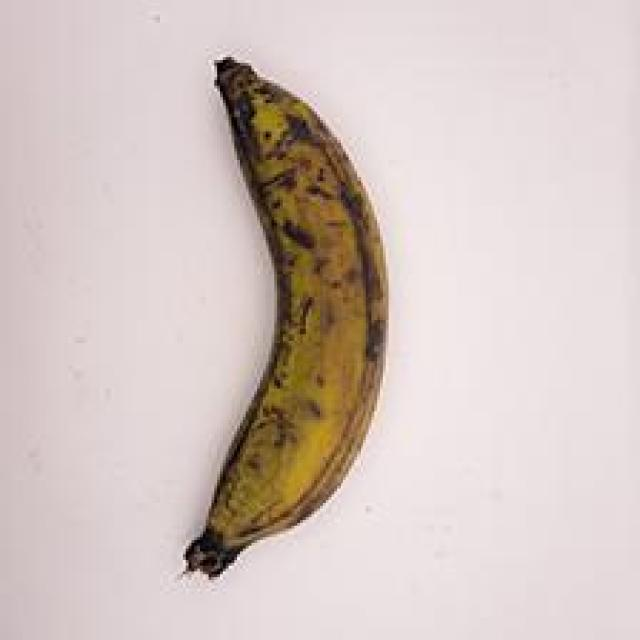Overripe: (134, 35, 426, 588)
